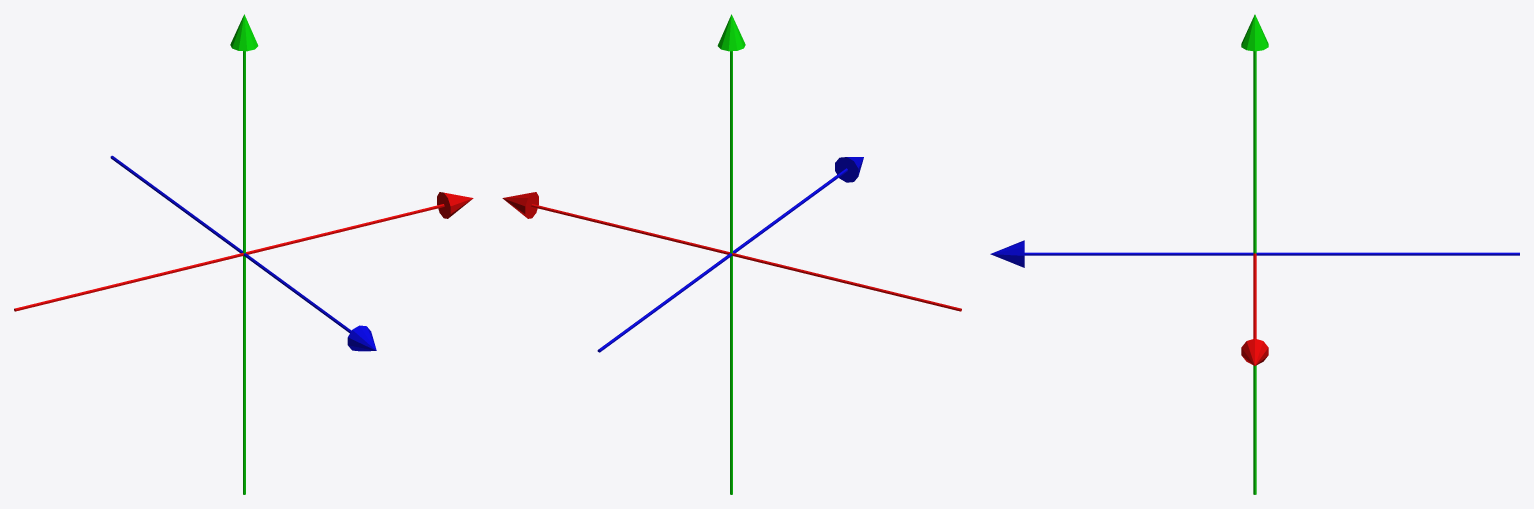
Rendered from axis.fbx.
The picture shows the model from 3 angles, left to right: view 1: azimuth 30°, elevation 25°; view 2: azimuth 150°, elevation 25°; view 3: azimuth 270°, elevation 25°; orthographic projection.
Visible parts, largest first — view 1: pCylinder5; view 2: pCylinder5; view 3: pCylinder5.
Boxes of the visible parts, x1=… form: pCylinder5: x1=14, y1=14, x2=473, y2=494; pCylinder5: x1=502, y1=14, x2=961, y2=494; pCylinder5: x1=990, y1=14, x2=1519, y2=494.
Size of the model in its own units: 10.64 by 10.64 by 10.64.
